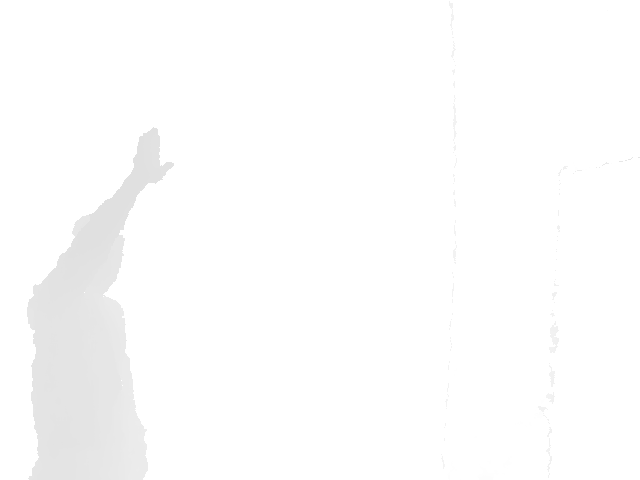hand: (119, 126, 176, 185)
head: (70, 214, 125, 296)
person: (24, 126, 176, 480)
